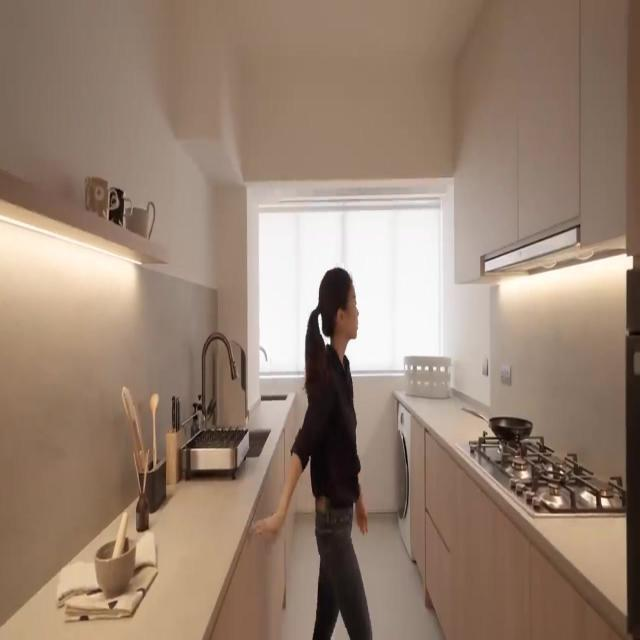obstacle: (0, 404, 288, 640)
person: (254, 266, 373, 640)
